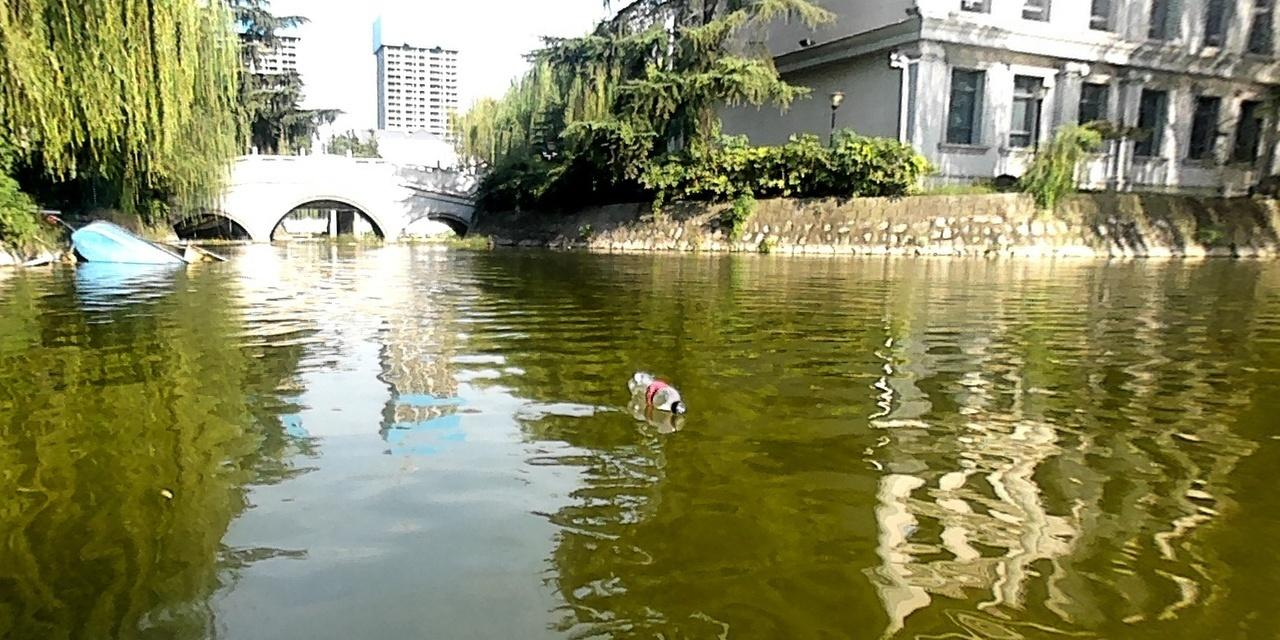bottle: (626, 369, 685, 416)
